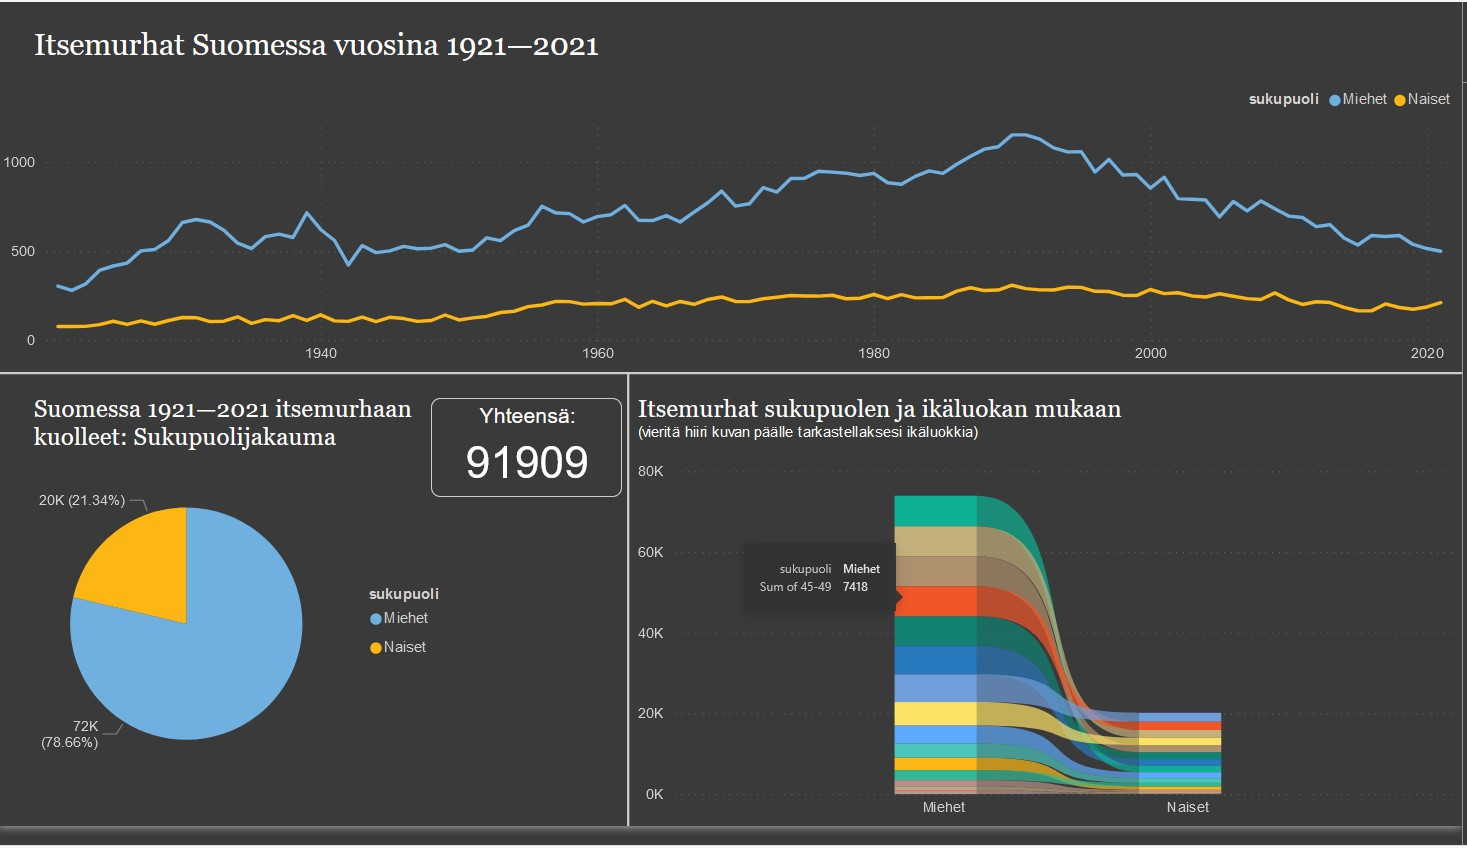

What the dashboard file says about the page in this screenshot:
{"tool":"powerbi","page":{"name":"IM1","canvas":[1280,720],"ordinal":0},"visuals":[{"type":"pieChart","fields":{"Y":["Sum(itsemurhat.total)"],"Category":["itsemurhat.sukupuoli"]},"box":[0,395.7,408.6,324.3],"z":0},{"type":"ribbonChart","fields":{"Category":["itsemurhat.sukupuoli"],"Y":["Sum(itsemurhat.0-14)","Sum(itsemurhat.15-19)","Sum(itsemurhat.20-24)","Sum(itsemurhat.25-29)","Sum(itsemurhat.30-34)","Sum(itsemurhat.35-39)","Sum(itsemurhat.40-44)","Sum(itsemurhat.45-49)","Sum(itsemurhat.50-54)","Sum(itsemurhat.55-59)","Sum(itsemurhat.60-64)","Sum(itsemurhat.65-69)"]},"box":[454.3,360,825.7,347.1],"z":1000},{"type":"lineChart","fields":{"Category":["itsemurhat.Vuosi"],"Series":["itsemurhat.sukupuoli"],"Y":["Sum(itsemurhat.total)"]},"box":[0,65.7,1280,271.4],"z":2000},{"type":"textbox","box":[27.1,17.1,1182.9,48.6],"z":3000},{"type":"textbox","box":[27.1,337.1,360,88.6],"z":4000},{"type":"textbox","box":[891.4,395.7,360,88.6],"z":5000}]}

Visuals, with their boxes in screenshot pixels (x1, y1, x2, y2), scaled from the page's 1280x720 canvas onto the 1467x848 screenshot:
pieChart - Sum(itsemurhat.total) x itsemurhat.sukupuoli: left=0, top=466, right=468, bottom=847
ribbonChart - itsemurhat.sukupuoli x Sum(itsemurhat.0-14): left=521, top=424, right=1466, bottom=833
lineChart - itsemurhat.Vuosi x itsemurhat.sukupuoli: left=0, top=77, right=1466, bottom=397
textbox: left=31, top=20, right=1387, bottom=77
textbox: left=31, top=397, right=444, bottom=501
textbox: left=1022, top=466, right=1434, bottom=570
